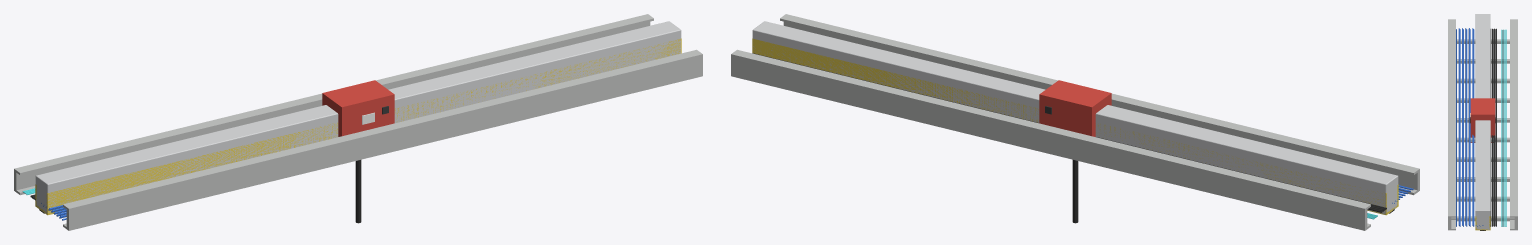
Rendered from overhead.glb.
The picture shows the model from 3 angles, left to right: view 1: azimuth 30°, elevation 25°; view 2: azimuth 150°, elevation 25°; view 3: azimuth 270°, elevation 25°; orthographic projection. The views are drawn at different scales.
Parts seen in each view (by area): view 1: tray, busway, fiber_duct, tapbox_a; view 2: tray, busway, fiber_duct, tapbox_a, cables; view 3: cables, tray, busway, tapbox_a, fiber_duct.
Part boxes in pixels (<box>): tray: <box>14,14,702,230</box>; busway: <box>35,21,681,213</box>; fiber_duct: <box>35,38,681,215</box>; tapbox_a: <box>322,80,394,223</box>; tray: <box>731,14,1419,230</box>; busway: <box>752,21,1398,214</box>; fiber_duct: <box>752,38,1398,215</box>; tapbox_a: <box>1039,80,1111,223</box>; cables: <box>752,53,1413,219</box>; cables: <box>1456,28,1506,226</box>; tray: <box>1448,19,1517,230</box>; busway: <box>1475,14,1490,230</box>; tapbox_a: <box>1469,98,1496,142</box>; fiber_duct: <box>1475,216,1490,230</box>.
Size of the model in its own units: 3 by 0.58 by 0.45.
